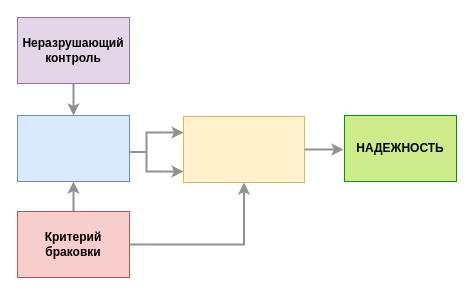
Image size: 474x295. Some labels were removed from this diagram. The shapes that lost their labels are listed below. From the top down, each one's centre as x and y in pixels, then its label:
(73,148): Механическая модель МПТ
(243,149): Оценка прочности Прогноз ресурса
